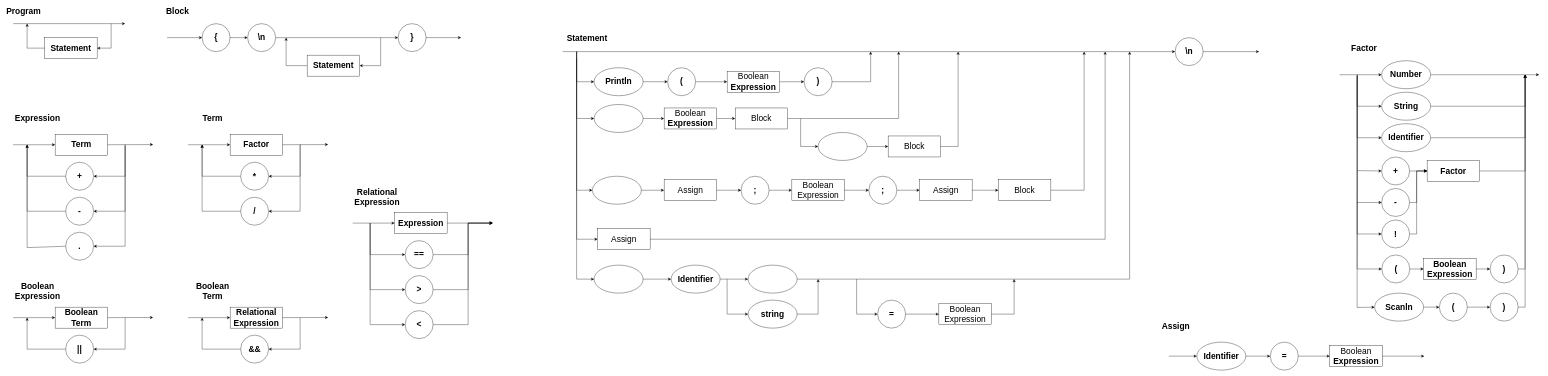
Image size: 1548x376. Some labels were removed from this diagram. The shapes that lost their labels are listed below. From the top down, each one's centre as x and y in pixels, then its label:
At (x=618, y=118): "if".
At (x=842, y=146): "else".
At (x=616, y=190): "for".
At (x=618, y=279): "var".
At (x=772, y=279): "int".
